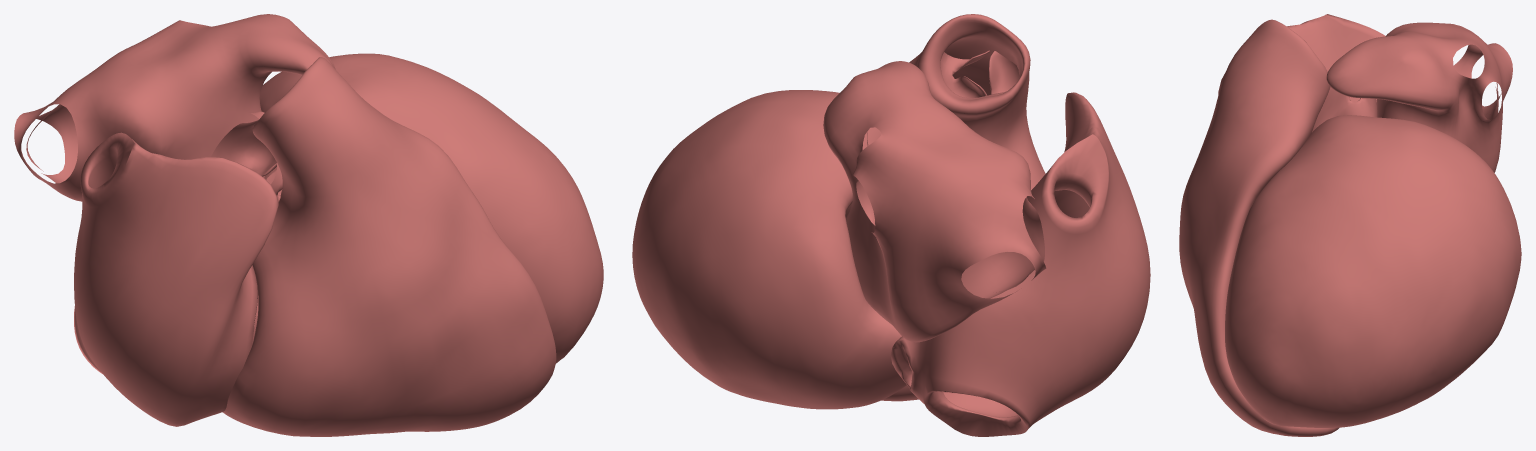
Rendered from heart-female.glb.
The picture shows the model from 3 angles, left to right: view 1: azimuth 30°, elevation 25°; view 2: azimuth 150°, elevation 25°; view 3: azimuth 270°, elevation 25°; orthographic projection. The views are drawn at different scales.
Visible parts, largest first — view 1: VH_F_right_ventricle, VH_F_right_cardiac_atrium, VH_F_left_ventricle, VH_F_left_cardiac_atrium, VH_F_aortic_valve; view 2: VH_F_left_ventricle, VH_F_right_cardiac_atrium, VH_F_left_cardiac_atrium, VH_F_right_ventricle, VH_F_pulmonary_valve; view 3: VH_F_left_ventricle, VH_F_right_ventricle, VH_F_left_cardiac_atrium, VH_F_right_cardiac_atrium, VH_F_aortic_valve.
Boxes of the visible parts, x1=… form: VH_F_right_ventricle: x1=222, y1=57, x2=556, y2=436; VH_F_right_cardiac_atrium: x1=74, y1=132, x2=278, y2=426; VH_F_left_ventricle: x1=259, y1=53, x2=603, y2=363; VH_F_left_cardiac_atrium: x1=14, y1=14, x2=335, y2=201; VH_F_aortic_valve: x1=211, y1=111, x2=282, y2=202; VH_F_left_ventricle: x1=632, y1=90, x2=906, y2=409; VH_F_right_cardiac_atrium: x1=890, y1=92, x2=1150, y2=436; VH_F_left_cardiac_atrium: x1=823, y1=61, x2=1046, y2=342; VH_F_right_ventricle: x1=881, y1=14, x2=1045, y2=401; VH_F_pulmonary_valve: x1=940, y1=50, x2=1019, y2=97; VH_F_left_ventricle: x1=1225, y1=115, x2=1521, y2=427; VH_F_right_ventricle: x1=1179, y1=19, x2=1339, y2=436; VH_F_left_cardiac_atrium: x1=1326, y1=22, x2=1512, y2=172; VH_F_right_cardiac_atrium: x1=1218, y1=14, x2=1385, y2=101; VH_F_aortic_valve: x1=1312, y1=87, x2=1377, y2=132.
Bounding box in the file's own units: 0.1425 × 0.11 × 0.1015.
